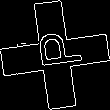P_W: (27, 33, 83, 77)
